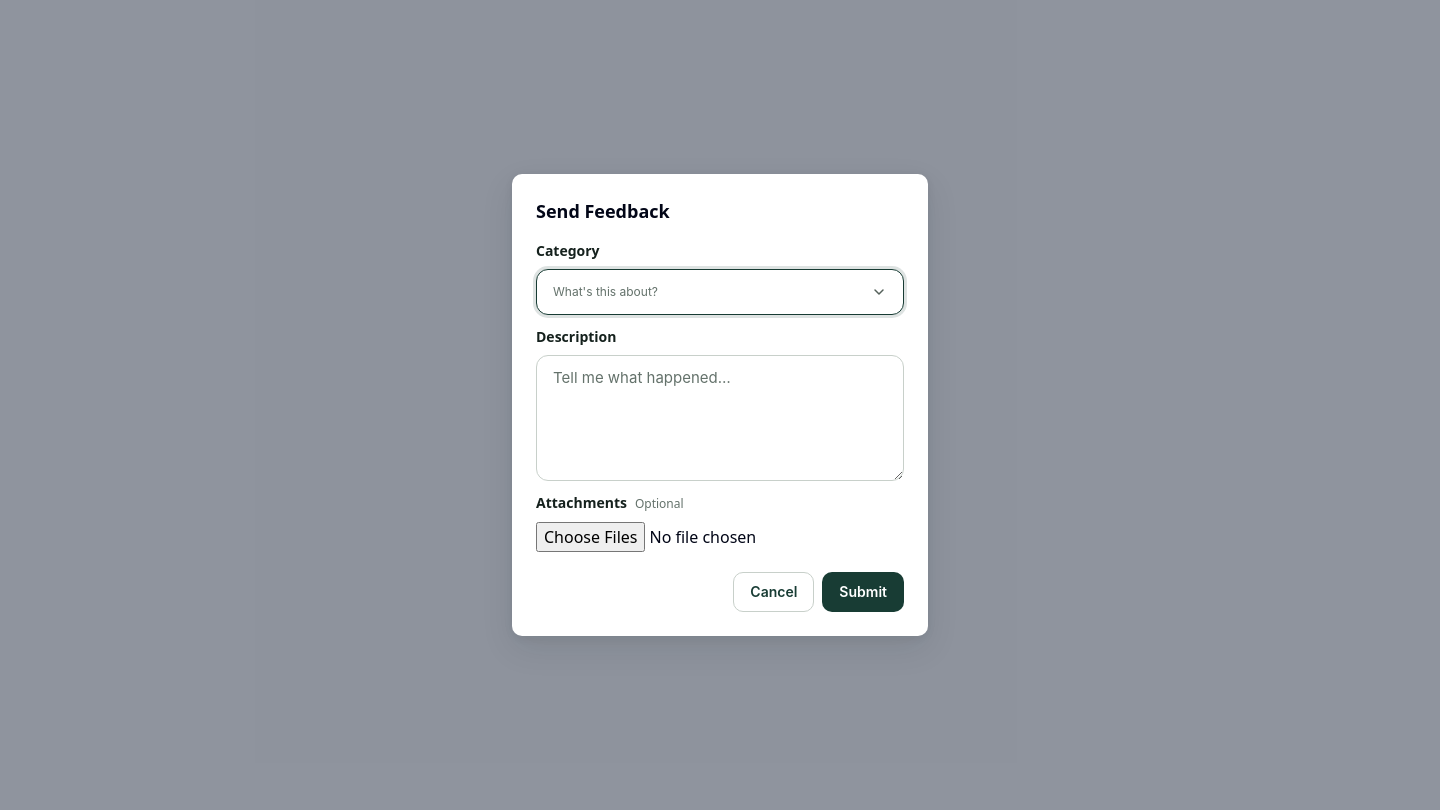
Test: FeedbackModal › submits the expected FormData, including a parseable context_json, and shows the thank-you confirmation
The image size is (1440, 810).
Click the dropdown named "Category" at (605, 292), box [536,269,904,315]
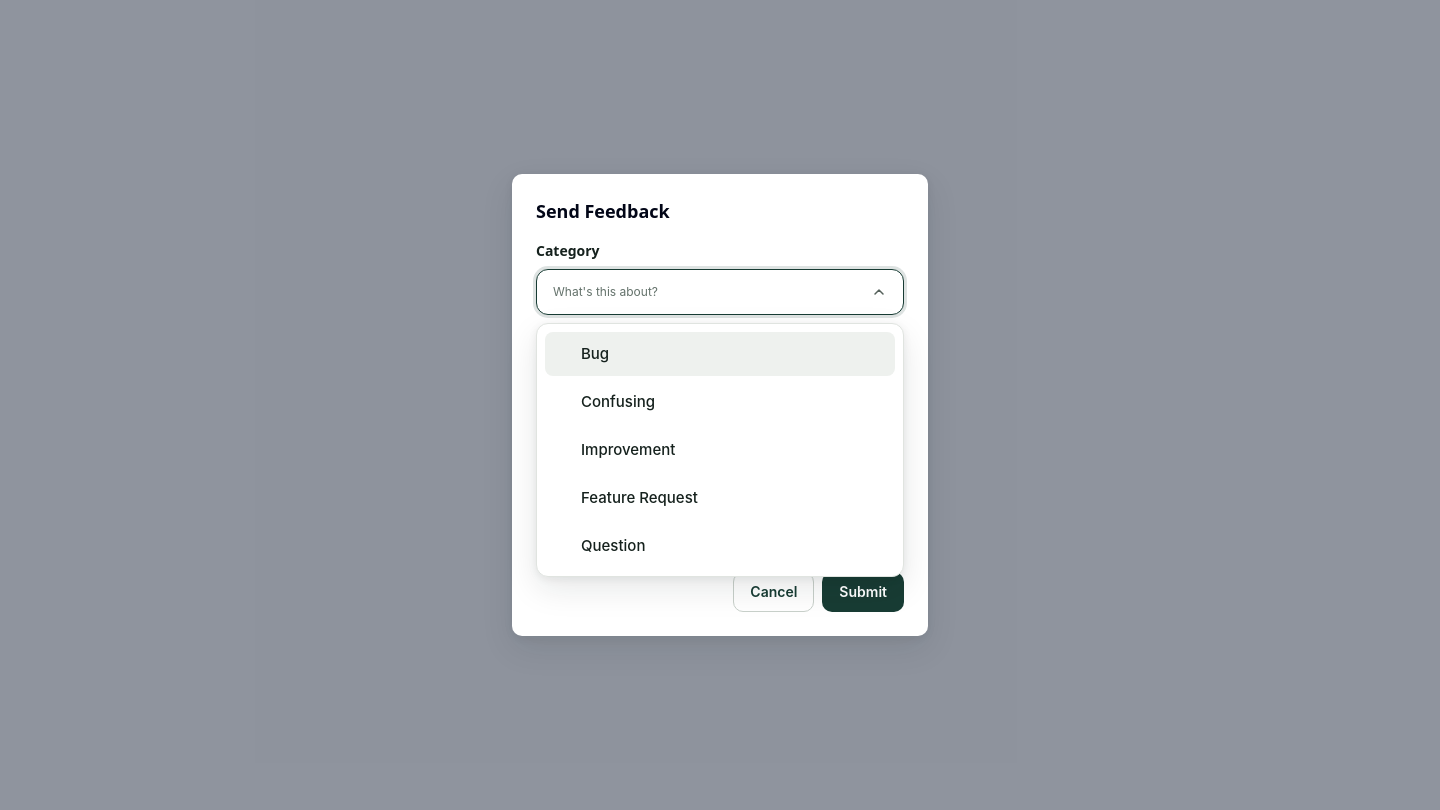
Click the option "Bug" at (595, 354), box [545,332,895,376]
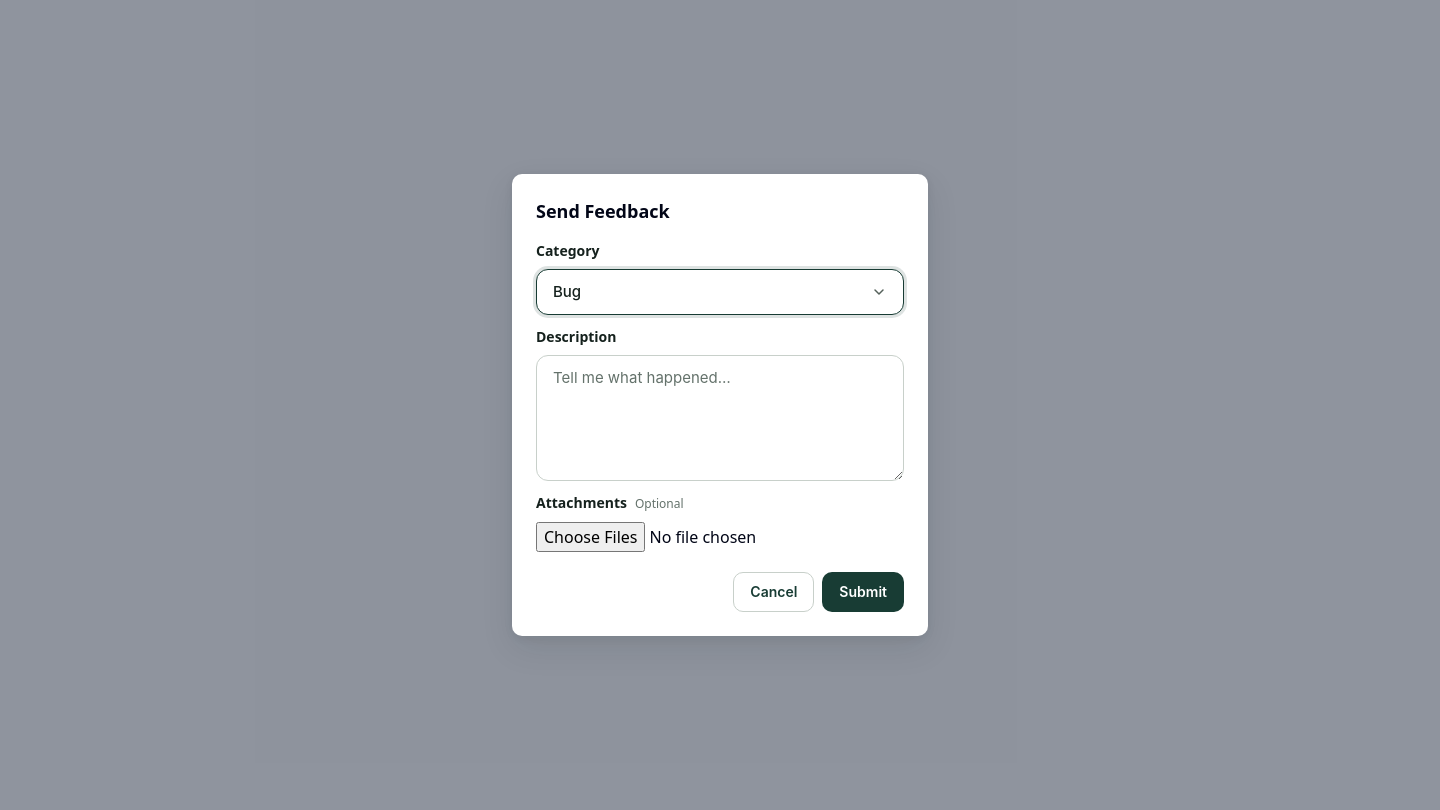
Type "It broke." into the text box labelled "Description" at (720, 418), box [536,355,904,481]
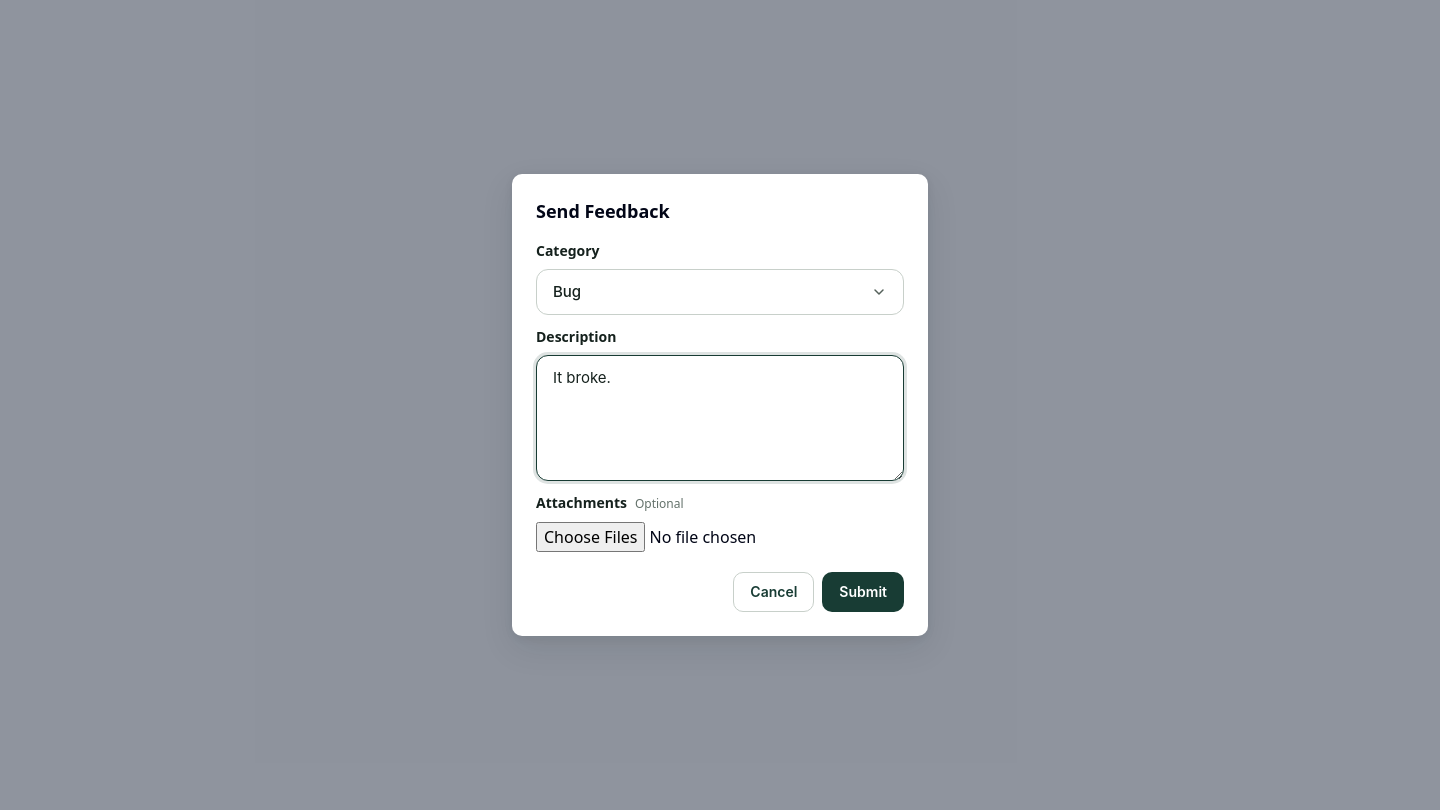
Click the button "Submit" at (863, 592), box [822,572,904,612]
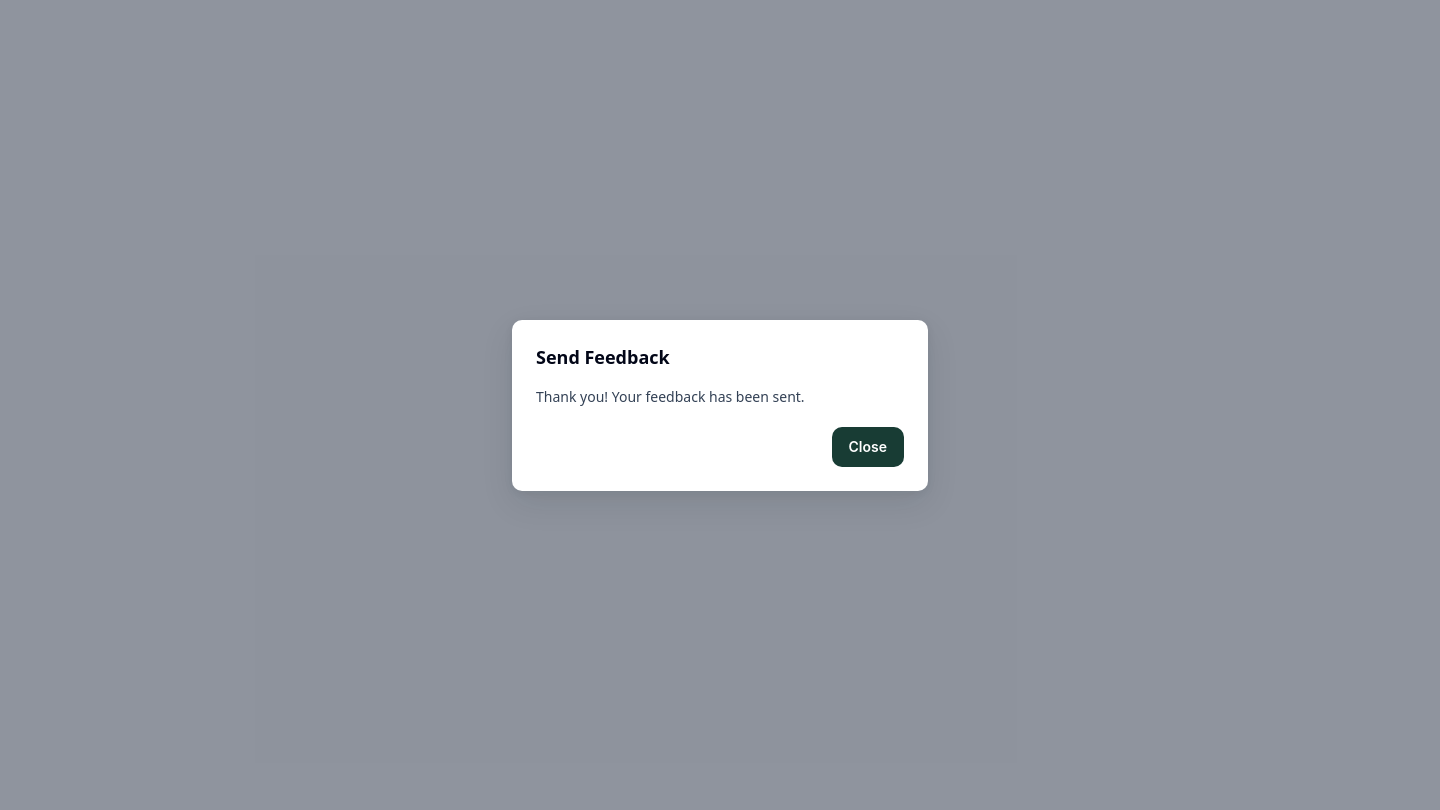
expect the text "Thank you! Your feedback has been sent." is shown: met, box [536,386,805,406]
